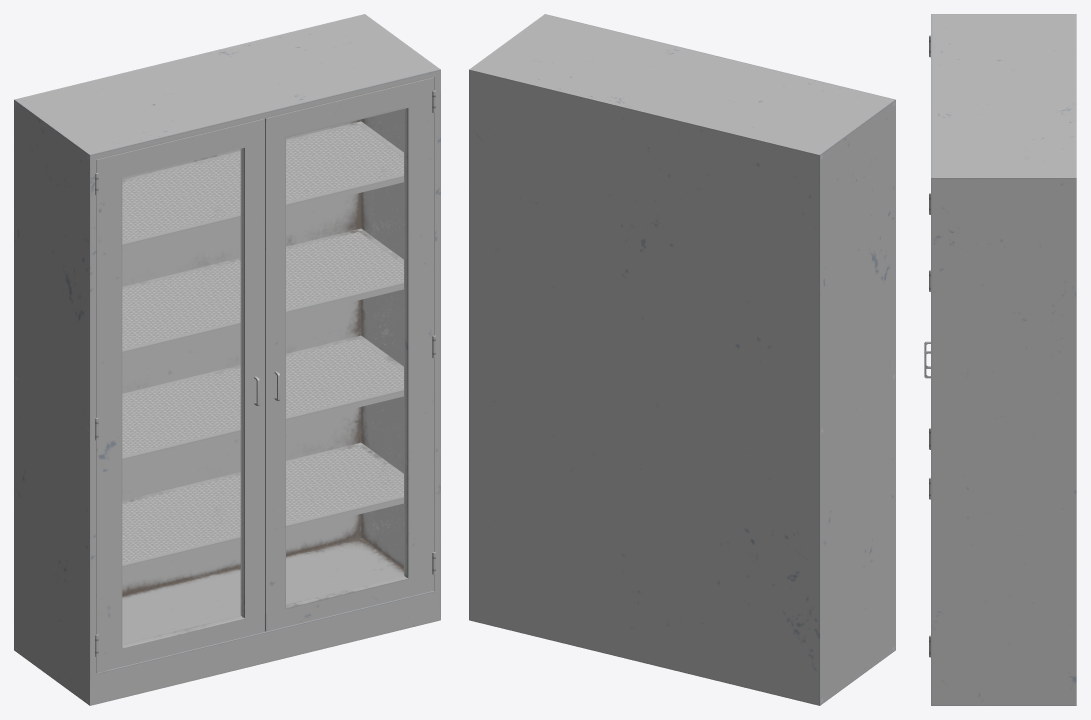
The model's file is static_model.glb.
3 views of the same model, side by side, from view 1: azimuth 30°, elevation 25°; view 2: azimuth 150°, elevation 25°; view 3: azimuth 270°, elevation 25° (orthographic). The views are drawn at different scales.
Visible parts, largest first — view 1: lab_cabinet_body_NakedSingularity, lab_cabinet_l_door_NakedSingularity, lab_cabinet_r_door_NakedSingularity; view 2: lab_cabinet_body_NakedSingularity; view 3: lab_cabinet_body_NakedSingularity.
Boxes of the visible parts, x1,y1,x2,y2 form: lab_cabinet_body_NakedSingularity: (14, 14, 440, 705); lab_cabinet_l_door_NakedSingularity: (265, 77, 434, 631); lab_cabinet_r_door_NakedSingularity: (96, 118, 264, 672); lab_cabinet_body_NakedSingularity: (469, 14, 895, 705); lab_cabinet_body_NakedSingularity: (929, 14, 1076, 705).
Size of the model in its own units: 1.2 by 1.8 by 0.4704.
Materials: 2 (2 with a texture image).
